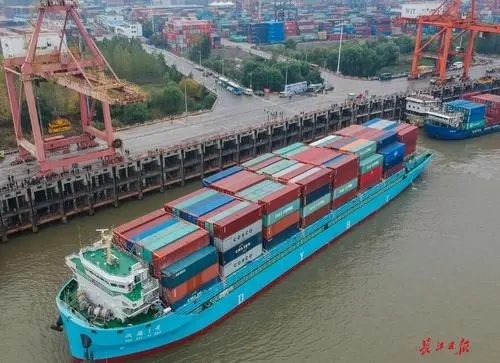Cargoship: (50, 109, 436, 357), (424, 93, 500, 140)
